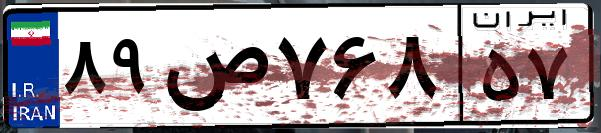5: (475, 38, 525, 113)
6: (330, 28, 385, 110)
7: (270, 28, 330, 110), (525, 38, 570, 115)
8: (385, 28, 445, 110), (57, 26, 110, 100)
9: (110, 28, 158, 98)
ص: (158, 20, 270, 120)
